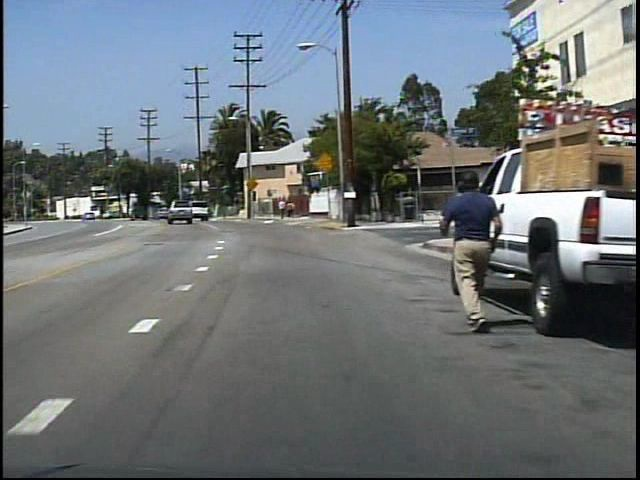person: (433, 165, 497, 334), (276, 196, 286, 220), (285, 198, 295, 220)
